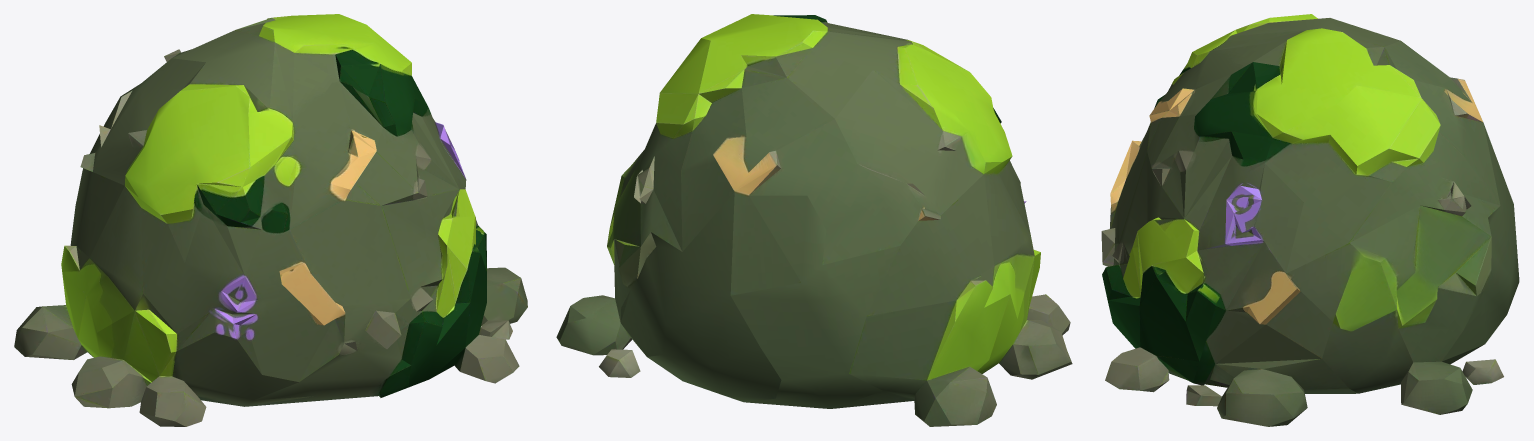
Rendered from boulder.glb.
3 views of the same model, side by side, from view 1: azimuth 30°, elevation 25°; view 2: azimuth 150°, elevation 25°; view 3: azimuth 270°, elevation 25° (orthographic). The views are drawn at different scales.
Bounding box in the file's own units: 1.89 × 1.23 × 1.57.
Materials: 1 (1 with a texture image).
